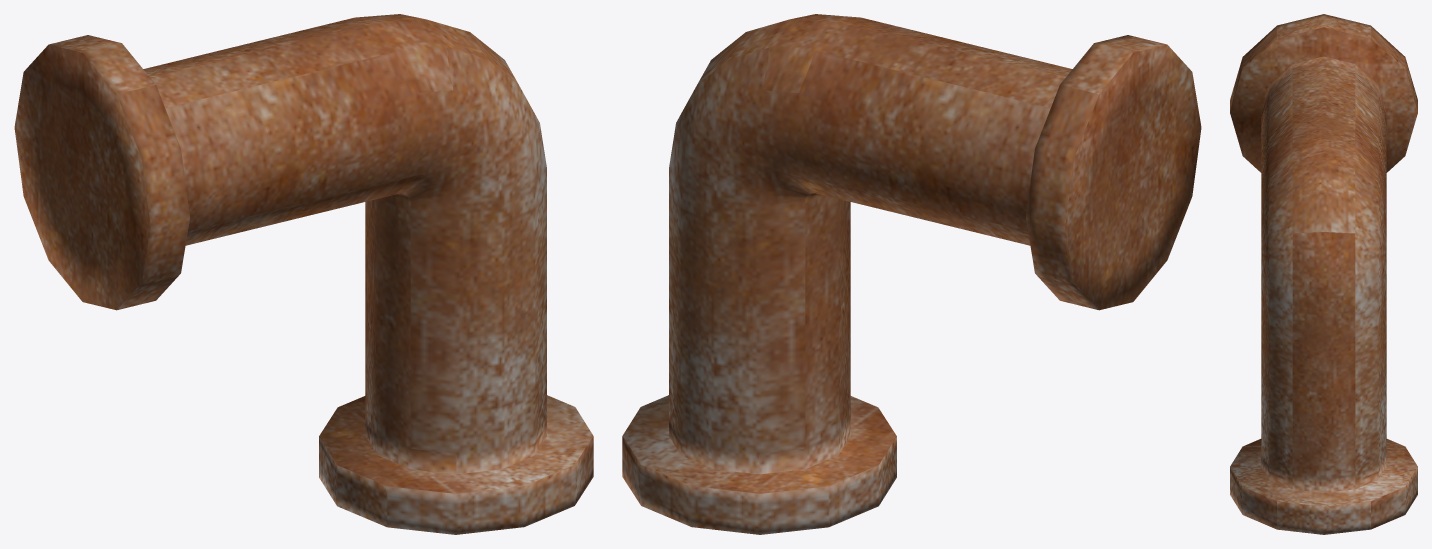
Rendered from pipe.corner.fbx.
The picture shows the model from 3 angles, left to right: view 1: azimuth 30°, elevation 25°; view 2: azimuth 150°, elevation 25°; view 3: azimuth 270°, elevation 25°; orthographic projection. The views are drawn at different scales.
Parts seen in each view (by area): view 1: Cylinder; view 2: Cylinder; view 3: Cylinder.
Part boxes in pixels (bbox=[...]): Cylinder: bbox=[14, 14, 593, 534]; Cylinder: bbox=[622, 14, 1201, 534]; Cylinder: bbox=[1230, 14, 1417, 534].
Size of the model in its own units: 125 by 125 by 60.03.
Materials: 1 (1 with a texture image).
